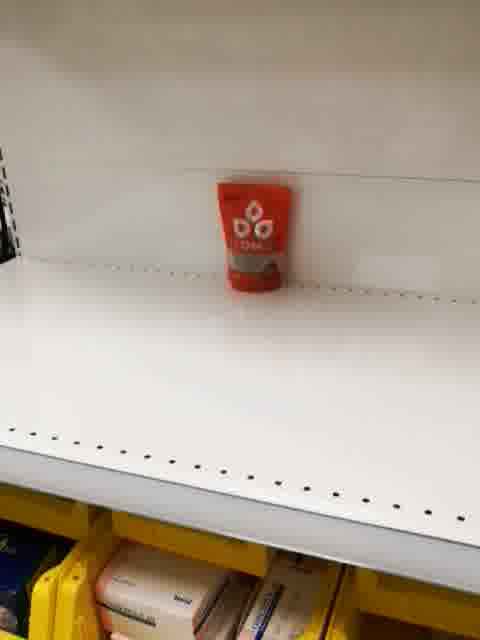whitechia: (216, 177, 297, 293)
